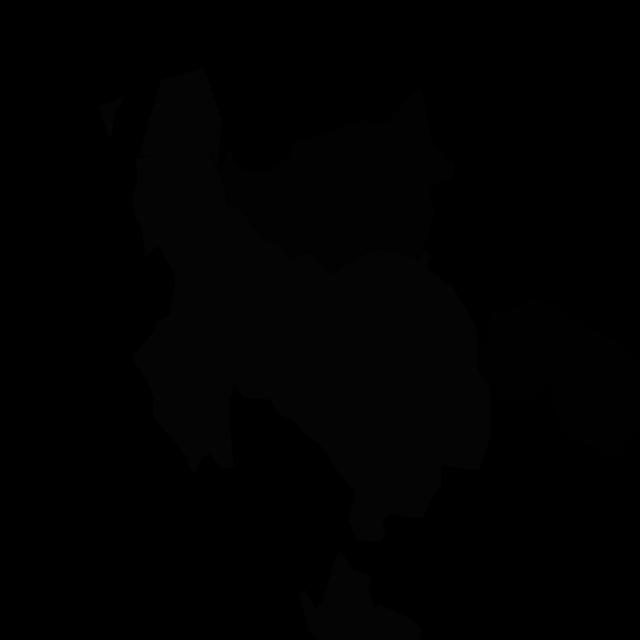cardboard: (222, 87, 454, 273)
rigid_plastic: (478, 298, 640, 459)
soft_plastic: (132, 135, 491, 541), (299, 549, 422, 640), (139, 68, 222, 167), (99, 95, 125, 137)
